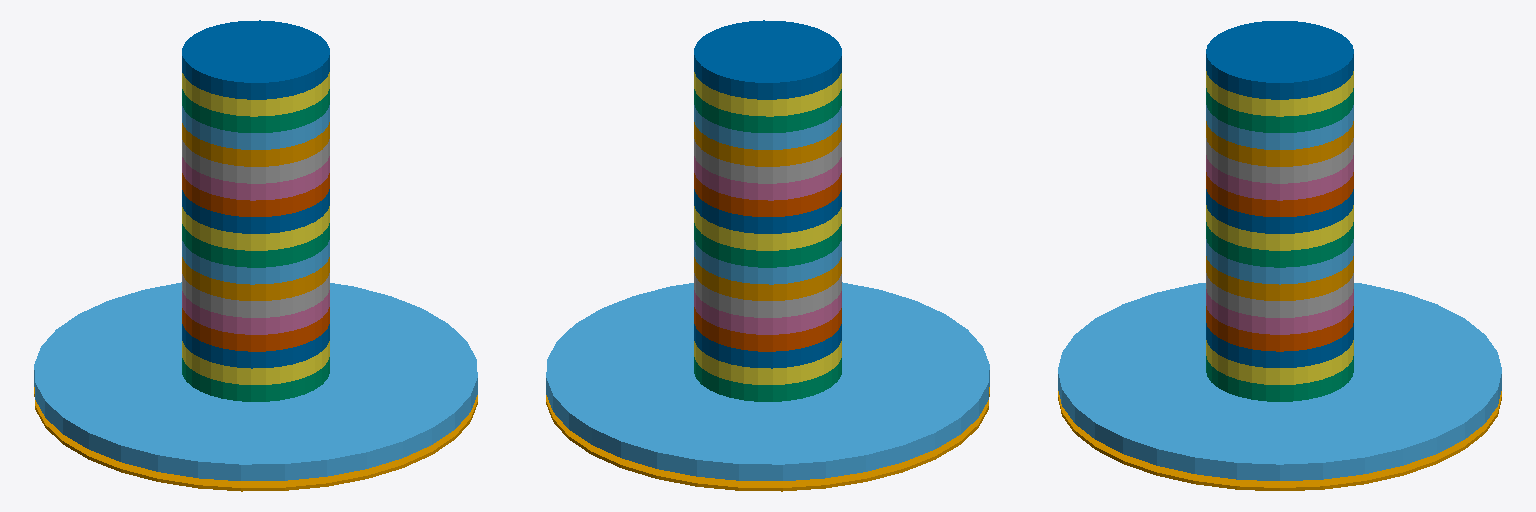
URDF robot description (3_flat_bottom):
<?xml version="1.0"?>

<robot name="3_flat_bottom">

    <!-- The base --> 
    <link name="base_link">
        <inertial>
            <origin xyz="0 0 0" rpy="0 0 0"/>
            <mass value="1"/>
            <inertia ixx="0.1" ixy="0.0" ixz="0.0" iyy="0.1" iyz="0.0" izz="0.1"/>
        </inertial>
        <visual>
            <origin xyz="0 0 0" rpy="0 0 0"/>
            <geometry>
                <cylinder length="0.01" radius="0.6"/>
            </geometry>
        </visual>
        <collision>
            <origin xyz="0 0 0" rpy="0 0 0"/>
            <geometry>
                <cylinder length="0.01" radius="0.6"/>
            </geometry>
        </collision>
    </link>

    <!-- 0 -->
    <link name="0_link">
        <inertial>
            <origin xyz="0 0 0" rpy="0 0 0"/>
            <mass value="1"/>
            <inertia ixx="0.01" ixy="0.0" ixz="0.0" iyy="0.01" iyz="0.0" izz="0.01"/>
        </inertial>
        <visual>
            <origin xyz="0 0 0" rpy="0 0 0"/>
            <geometry>
                <cylinder length="0.05" radius="0.6"/>
            </geometry>
        </visual>
        <collision>
            <origin xyz="0 0 0" rpy="0 0 0"/>
            <geometry>
                <cylinder length="0.05" radius="0.6"/>
            </geometry>
        </collision>
    </link>

    <!-- Joint from base to 0 -->
    <joint name="base_0_joint" type="fixed">
        <parent link="base_link"/>
        <child link="0_link"/>
        <origin xyz="0 0 0.05" rpy="0 0 0"/>
    </joint>

    <!-- 1 -->
    <link name="1_link">
        <inertial>
            <origin xyz="0 0 0" rpy="0 0 0"/>
            <mass value="1"/>
            <inertia ixx="0.01" ixy="0.0" ixz="0.0" iyy="0.01" iyz="0.0" izz="0.01"/>
        </inertial>
        <visual>
            <origin xyz="0 0 0" rpy="0 0 0"/>
            <geometry>
                <cylinder length="0.05" radius="0.2"/>
            </geometry>
        </visual>
        <collision>
            <origin xyz="0 0 0" rpy="0 0 0"/>
            <geometry>
                <cylinder length="0.05" radius="0.2"/>
            </geometry>
        </collision>
    </link>

    <!-- Joint from 0 to 1 -->
    <joint name="0_1_joint" type="fixed">
        <parent link="0_link"/>
        <child link="1_link"/>
        <origin xyz="0 0 0.05" rpy="0 0 0"/>
    </joint>

    <!-- 2 -->
    <link name="2_link">
        <inertial>
            <origin xyz="0 0 0" rpy="0 0 0"/>
            <mass value="1"/>
            <inertia ixx="0.01" ixy="0.0" ixz="0.0" iyy="0.01" iyz="0.0" izz="0.01"/>
        </inertial>
        <visual>
            <origin xyz="0 0 0" rpy="0 0 0"/>
            <geometry>
                <cylinder length="0.05" radius="0.2"/>
            </geometry>
        </visual>
        <collision>
            <origin xyz="0 0 0" rpy="0 0 0"/>
            <geometry>
                <cylinder length="0.05" radius="0.2"/>
            </geometry>
        </collision>
    </link>

    <!-- Joint from 1 to 2 -->
    <joint name="1_2_joint" type="fixed">
        <parent link="1_link"/>
        <child link="2_link"/>
        <origin xyz="0 0 0.05" rpy="0 0 0"/>
    </joint>

    <!-- 3 -->
    <link name="3_link">
        <inertial>
            <origin xyz="0 0 0" rpy="0 0 0"/>
            <mass value="1"/>
            <inertia ixx="0.01" ixy="0.0" ixz="0.0" iyy="0.01" iyz="0.0" izz="0.01"/>
        </inertial>
        <visual>
            <origin xyz="0 0 0" rpy="0 0 0"/>
            <geometry>
                <cylinder length="0.05" radius="0.2"/>
            </geometry>
        </visual>
        <collision>
            <origin xyz="0 0 0" rpy="0 0 0"/>
            <geometry>
                <cylinder length="0.05" radius="0.2"/>
            </geometry>
        </collision>
    </link>

    <!-- Joint from 2 to 3 -->
    <joint name="2_3_joint" type="fixed">
        <parent link="2_link"/>
        <child link="3_link"/>
        <origin xyz="0 0 0.05" rpy="0 0 0"/>
    </joint>

    <!-- 4 -->
    <link name="4_link">
        <inertial>
            <origin xyz="0 0 0" rpy="0 0 0"/>
            <mass value="1"/>
            <inertia ixx="0.01" ixy="0.0" ixz="0.0" iyy="0.01" iyz="0.0" izz="0.01"/>
        </inertial>
        <visual>
            <origin xyz="0 0 0" rpy="0 0 0"/>
            <geometry>
                <cylinder length="0.05" radius="0.2"/>
            </geometry>
        </visual>
        <collision>
            <origin xyz="0 0 0" rpy="0 0 0"/>
            <geometry>
                <cylinder length="0.05" radius="0.2"/>
            </geometry>
        </collision>
    </link>

    <!-- Joint from 3 to 4 -->
    <joint name="3_4_joint" type="fixed">
        <parent link="3_link"/>
        <child link="4_link"/>
        <origin xyz="0 0 0.05" rpy="0 0 0"/>
    </joint>

    <!-- 5 -->
    <link name="5_link">
        <inertial>
            <origin xyz="0 0 0" rpy="0 0 0"/>
            <mass value="1"/>
            <inertia ixx="0.01" ixy="0.0" ixz="0.0" iyy="0.01" iyz="0.0" izz="0.01"/>
        </inertial>
        <visual>
            <origin xyz="0 0 0" rpy="0 0 0"/>
            <geometry>
                <cylinder length="0.05" radius="0.2"/>
            </geometry>
        </visual>
        <collision>
            <origin xyz="0 0 0" rpy="0 0 0"/>
            <geometry>
                <cylinder length="0.05" radius="0.2"/>
            </geometry>
        </collision>
    </link>

    <!-- Joint from 4 to 5 -->
    <joint name="4_5_joint" type="fixed">
        <parent link="4_link"/>
        <child link="5_link"/>
        <origin xyz="0 0 0.05" rpy="0 0 0"/>
    </joint>

    <!-- 6 -->
    <link name="6_link">
        <inertial>
            <origin xyz="0 0 0" rpy="0 0 0"/>
            <mass value="1"/>
            <inertia ixx="0.01" ixy="0.0" ixz="0.0" iyy="0.01" iyz="0.0" izz="0.01"/>
        </inertial>
        <visual>
            <origin xyz="0 0 0" rpy="0 0 0"/>
            <geometry>
                <cylinder length="0.05" radius="0.2"/>
            </geometry>
        </visual>
        <collision>
            <origin xyz="0 0 0" rpy="0 0 0"/>
            <geometry>
                <cylinder length="0.05" radius="0.2"/>
            </geometry>
        </collision>
    </link>

    <!-- Joint from 5 to 6 -->
    <joint name="5_6_joint" type="fixed">
        <parent link="5_link"/>
        <child link="6_link"/>
        <origin xyz="0 0 0.05" rpy="0 0 0"/>
    </joint>

    <!-- 7 -->
    <link name="7_link">
        <inertial>
            <origin xyz="0 0 0" rpy="0 0 0"/>
            <mass value="1"/>
            <inertia ixx="0.01" ixy="0.0" ixz="0.0" iyy="0.01" iyz="0.0" izz="0.01"/>
        </inertial>
        <visual>
            <origin xyz="0 0 0" rpy="0 0 0"/>
            <geometry>
                <cylinder length="0.05" radius="0.2"/>
            </geometry>
        </visual>
        <collision>
            <origin xyz="0 0 0" rpy="0 0 0"/>
            <geometry>
                <cylinder length="0.05" radius="0.2"/>
            </geometry>
        </collision>
    </link>

    <!-- Joint from 6 to 7 -->
    <joint name="6_7_joint" type="fixed">
        <parent link="6_link"/>
        <child link="7_link"/>
        <origin xyz="0 0 0.05" rpy="0 0 0"/>
    </joint>

    <!-- 8 -->
    <link name="8_link">
        <inertial>
            <origin xyz="0 0 0" rpy="0 0 0"/>
            <mass value="1"/>
            <inertia ixx="0.01" ixy="0.0" ixz="0.0" iyy="0.01" iyz="0.0" izz="0.01"/>
        </inertial>
        <visual>
            <origin xyz="0 0 0" rpy="0 0 0"/>
            <geometry>
                <cylinder length="0.05" radius="0.2"/>
            </geometry>
        </visual>
        <collision>
            <origin xyz="0 0 0" rpy="0 0 0"/>
            <geometry>
                <cylinder length="0.05" radius="0.2"/>
            </geometry>
        </collision>
    </link>

    <!-- Joint from 7 to 8 -->
    <joint name="7_8_joint" type="fixed">
        <parent link="7_link"/>
        <child link="8_link"/>
        <origin xyz="0 0 0.05" rpy="0 0 0"/>
    </joint>

    <!-- 9 -->
    <link name="9_link">
        <inertial>
            <origin xyz="0 0 0" rpy="0 0 0"/>
            <mass value="1"/>
            <inertia ixx="0.01" ixy="0.0" ixz="0.0" iyy="0.01" iyz="0.0" izz="0.01"/>
        </inertial>
        <visual>
            <origin xyz="0 0 0" rpy="0 0 0"/>
            <geometry>
                <cylinder length="0.05" radius="0.2"/>
            </geometry>
        </visual>
        <collision>
            <origin xyz="0 0 0" rpy="0 0 0"/>
            <geometry>
                <cylinder length="0.05" radius="0.2"/>
            </geometry>
        </collision>
    </link>

    <!-- Joint from 8 to 9 -->
    <joint name="8_9_joint" type="fixed">
        <parent link="8_link"/>
        <child link="9_link"/>
        <origin xyz="0 0 0.05" rpy="0 0 0"/>
    </joint>

    <!-- 10 -->
    <link name="10_link">
        <inertial>
            <origin xyz="0 0 0" rpy="0 0 0"/>
            <mass value="1"/>
            <inertia ixx="0.01" ixy="0.0" ixz="0.0" iyy="0.01" iyz="0.0" izz="0.01"/>
        </inertial>
        <visual>
            <origin xyz="0 0 0" rpy="0 0 0"/>
            <geometry>
                <cylinder length="0.05" radius="0.2"/>
            </geometry>
        </visual>
        <collision>
            <origin xyz="0 0 0" rpy="0 0 0"/>
            <geometry>
                <cylinder length="0.05" radius="0.2"/>
            </geometry>
        </collision>
    </link>

    <!-- Joint from 9 to 10 -->
    <joint name="9_10_joint" type="fixed">
        <parent link="9_link"/>
        <child link="10_link"/>
        <origin xyz="0 0 0.05" rpy="0 0 0"/>
    </joint>

    <!-- 11 -->
    <link name="11_link">
        <inertial>
            <origin xyz="0 0 0" rpy="0 0 0"/>
            <mass value="1"/>
            <inertia ixx="0.01" ixy="0.0" ixz="0.0" iyy="0.01" iyz="0.0" izz="0.01"/>
        </inertial>
        <visual>
            <origin xyz="0 0 0" rpy="0 0 0"/>
            <geometry>
                <cylinder length="0.05" radius="0.2"/>
            </geometry>
        </visual>
        <collision>
            <origin xyz="0 0 0" rpy="0 0 0"/>
            <geometry>
                <cylinder length="0.05" radius="0.2"/>
            </geometry>
        </collision>
    </link>

    <!-- Joint from 10 to 11 -->
    <joint name="10_11_joint" type="fixed">
        <parent link="10_link"/>
        <child link="11_link"/>
        <origin xyz="0 0 0.05" rpy="0 0 0"/>
    </joint>

    <!-- 12 -->
    <link name="12_link">
        <inertial>
            <origin xyz="0 0 0" rpy="0 0 0"/>
            <mass value="1"/>
            <inertia ixx="0.01" ixy="0.0" ixz="0.0" iyy="0.01" iyz="0.0" izz="0.01"/>
        </inertial>
        <visual>
            <origin xyz="0 0 0" rpy="0 0 0"/>
            <geometry>
                <cylinder length="0.05" radius="0.2"/>
            </geometry>
        </visual>
        <collision>
            <origin xyz="0 0 0" rpy="0 0 0"/>
            <geometry>
                <cylinder length="0.05" radius="0.2"/>
            </geometry>
        </collision>
    </link>

    <!-- Joint from 11 to 12 -->
    <joint name="11_12_joint" type="fixed">
        <parent link="11_link"/>
        <child link="12_link"/>
        <origin xyz="0 0 0.05" rpy="0 0 0"/>
    </joint>

    <!-- 13 -->
    <link name="13_link">
        <inertial>
            <origin xyz="0 0 0" rpy="0 0 0"/>
            <mass value="1"/>
            <inertia ixx="0.01" ixy="0.0" ixz="0.0" iyy="0.01" iyz="0.0" izz="0.01"/>
        </inertial>
        <visual>
            <origin xyz="0 0 0" rpy="0 0 0"/>
            <geometry>
                <cylinder length="0.05" radius="0.2"/>
            </geometry>
        </visual>
        <collision>
            <origin xyz="0 0 0" rpy="0 0 0"/>
            <geometry>
                <cylinder length="0.05" radius="0.2"/>
            </geometry>
        </collision>
    </link>

    <!-- Joint from 12 to 13 -->
    <joint name="12_13_joint" type="fixed">
        <parent link="12_link"/>
        <child link="13_link"/>
        <origin xyz="0 0 0.05" rpy="0 0 0"/>
    </joint>

    <!-- 14 -->
    <link name="14_link">
        <inertial>
            <origin xyz="0 0 0" rpy="0 0 0"/>
            <mass value="1"/>
            <inertia ixx="0.01" ixy="0.0" ixz="0.0" iyy="0.01" iyz="0.0" izz="0.01"/>
        </inertial>
        <visual>
            <origin xyz="0 0 0" rpy="0 0 0"/>
            <geometry>
                <cylinder length="0.05" radius="0.2"/>
            </geometry>
        </visual>
        <collision>
            <origin xyz="0 0 0" rpy="0 0 0"/>
            <geometry>
                <cylinder length="0.05" radius="0.2"/>
            </geometry>
        </collision>
    </link>

    <!-- Joint from 13 to 14 -->
    <joint name="13_14_joint" type="fixed">
        <parent link="13_link"/>
        <child link="14_link"/>
        <origin xyz="0 0 0.05" rpy="0 0 0"/>
    </joint>

    <!-- 15 -->
    <link name="15_link">
        <inertial>
            <origin xyz="0 0 0" rpy="0 0 0"/>
            <mass value="1"/>
            <inertia ixx="0.01" ixy="0.0" ixz="0.0" iyy="0.01" iyz="0.0" izz="0.01"/>
        </inertial>
        <visual>
            <origin xyz="0 0 0" rpy="0 0 0"/>
            <geometry>
                <cylinder length="0.05" radius="0.2"/>
            </geometry>
        </visual>
        <collision>
            <origin xyz="0 0 0" rpy="0 0 0"/>
            <geometry>
                <cylinder length="0.05" radius="0.2"/>
            </geometry>
        </collision>
    </link>

    <!-- Joint from 14 to 15 -->
    <joint name="14_15_joint" type="fixed">
        <parent link="14_link"/>
        <child link="15_link"/>
        <origin xyz="0 0 0.05" rpy="0 0 0"/>
    </joint>

    <!-- 16 -->
    <link name="16_link">
        <inertial>
            <origin xyz="0 0 0" rpy="0 0 0"/>
            <mass value="1"/>
            <inertia ixx="0.01" ixy="0.0" ixz="0.0" iyy="0.01" iyz="0.0" izz="0.01"/>
        </inertial>
        <visual>
            <origin xyz="0 0 0" rpy="0 0 0"/>
            <geometry>
                <cylinder length="0.05" radius="0.2"/>
            </geometry>
        </visual>
        <collision>
            <origin xyz="0 0 0" rpy="0 0 0"/>
            <geometry>
                <cylinder length="0.05" radius="0.2"/>
            </geometry>
        </collision>
    </link>

    <!-- Joint from 15 to 16 -->
    <joint name="15_16_joint" type="fixed">
        <parent link="15_link"/>
        <child link="16_link"/>
        <origin xyz="0 0 0.05" rpy="0 0 0"/>
    </joint>

    <!-- 17 -->
    <link name="17_link">
        <inertial>
            <origin xyz="0 0 0" rpy="0 0 0"/>
            <mass value="1"/>
            <inertia ixx="0.01" ixy="0.0" ixz="0.0" iyy="0.01" iyz="0.0" izz="0.01"/>
        </inertial>
        <visual>
            <origin xyz="0 0 0" rpy="0 0 0"/>
            <geometry>
                <cylinder length="0.05" radius="0.2"/>
            </geometry>
        </visual>
        <collision>
            <origin xyz="0 0 0" rpy="0 0 0"/>
            <geometry>
                <cylinder length="0.05" radius="0.2"/>
            </geometry>
        </collision>
    </link>

    <!-- Joint from 16 to 17 -->
    <joint name="16_17_joint" type="fixed">
        <parent link="16_link"/>
        <child link="17_link"/>
        <origin xyz="0 0 0.05" rpy="0 0 0"/>
    </joint>

    <!-- 18 -->
    <link name="18_link">
        <inertial>
            <origin xyz="0 0 0" rpy="0 0 0"/>
            <mass value="1"/>
            <inertia ixx="0.01" ixy="0.0" ixz="0.0" iyy="0.01" iyz="0.0" izz="0.01"/>
        </inertial>
        <visual>
            <origin xyz="0 0 0" rpy="0 0 0"/>
            <geometry>
                <cylinder length="0.05" radius="0.2"/>
            </geometry>
        </visual>
        <collision>
            <origin xyz="0 0 0" rpy="0 0 0"/>
            <geometry>
                <cylinder length="0.05" radius="0.2"/>
            </geometry>
        </collision>
    </link>

    <!-- Joint from 17 to 18 -->
    <joint name="17_18_joint" type="fixed">
        <parent link="17_link"/>
        <child link="18_link"/>
        <origin xyz="0 0 0.05" rpy="0 0 0"/>
    </joint>

    <!-- 19 -->
    <link name="19_link">
        <inertial>
            <origin xyz="0 0 0" rpy="0 0 0"/>
            <mass value="1"/>
            <inertia ixx="0.01" ixy="0.0" ixz="0.0" iyy="0.01" iyz="0.0" izz="0.01"/>
        </inertial>
        <visual>
            <origin xyz="0 0 0" rpy="0 0 0"/>
            <geometry>
                <cylinder length="0.05" radius="0.2"/>
            </geometry>
        </visual>
        <collision>
            <origin xyz="0 0 0" rpy="0 0 0"/>
            <geometry>
                <cylinder length="0.05" radius="0.2"/>
            </geometry>
        </collision>
    </link>

    <!-- Joint from 18 to 19 -->
    <joint name="18_19_joint" type="fixed">
        <parent link="18_link"/>
        <child link="19_link"/>
        <origin xyz="0 0 0.05" rpy="0 0 0"/>
    </joint>

</robot>

--- Facts derived from the render (not from the file) ---
3 views of the same robot in one strip: view 1: azimuth 30°, elevation 25°; view 2: azimuth 150°, elevation 25°; view 3: azimuth 270°, elevation 25° (orthographic).
Model 3_flat_bottom with 21 links and 20 joints (20 fixed), rooted at base_link, posed all joints at 0.
Visible links, largest first — view 1: 0_link, 19_link, base_link, 9_link, 2_link, 16_link, 5_link, 10_link, 11_link, 14_link, 4_link, 1_link (+9 smaller); view 2: 0_link, 19_link, base_link, 9_link, 2_link, 16_link, 5_link, 10_link, 11_link, 14_link, 4_link, 1_link (+9 smaller); view 3: 0_link, 19_link, base_link, 12_link, 1_link, 15_link, 7_link, 10_link, 2_link, 3_link, 5_link, 6_link (+9 smaller).
Link boxes in pixels (x1=…): 0_link: x1=34, y1=282, x2=477, y2=480; 19_link: x1=182, y1=20, x2=329, y2=99; base_link: x1=34, y1=387, x2=477, y2=491; 9_link: x1=182, y1=223, x2=329, y2=267; 2_link: x1=182, y1=341, x2=329, y2=384; 16_link: x1=182, y1=105, x2=329, y2=149; 5_link: x1=182, y1=290, x2=329, y2=334; 10_link: x1=182, y1=206, x2=329, y2=250; 11_link: x1=182, y1=189, x2=329, y2=233; 14_link: x1=182, y1=139, x2=329, y2=183; 4_link: x1=182, y1=307, x2=329, y2=351; 1_link: x1=182, y1=357, x2=329, y2=401; 0_link: x1=546, y1=282, x2=989, y2=480; 19_link: x1=694, y1=20, x2=841, y2=99; base_link: x1=546, y1=387, x2=989, y2=491; 9_link: x1=694, y1=223, x2=841, y2=267; 2_link: x1=694, y1=341, x2=841, y2=384; 16_link: x1=694, y1=105, x2=841, y2=149; 5_link: x1=694, y1=290, x2=841, y2=334; 10_link: x1=694, y1=206, x2=841, y2=250; 11_link: x1=694, y1=189, x2=841, y2=233; 14_link: x1=694, y1=139, x2=841, y2=183; 4_link: x1=694, y1=307, x2=841, y2=351; 1_link: x1=694, y1=357, x2=841, y2=401; 0_link: x1=1058, y1=283, x2=1501, y2=480; 19_link: x1=1206, y1=21, x2=1353, y2=99; base_link: x1=1058, y1=391, x2=1501, y2=490; 12_link: x1=1206, y1=172, x2=1353, y2=216; 1_link: x1=1206, y1=356, x2=1353, y2=401; 15_link: x1=1206, y1=121, x2=1353, y2=166; 7_link: x1=1206, y1=256, x2=1353, y2=300; 10_link: x1=1206, y1=205, x2=1353, y2=250; 2_link: x1=1206, y1=340, x2=1353, y2=384; 3_link: x1=1206, y1=323, x2=1353, y2=367; 5_link: x1=1206, y1=289, x2=1353, y2=334; 6_link: x1=1206, y1=273, x2=1353, y2=317.
Size in the robot's own frame: 1.2 by 1.2 by 1.03 metres.
Geometry: primitives only (box / cylinder / sphere), no mesh files.
